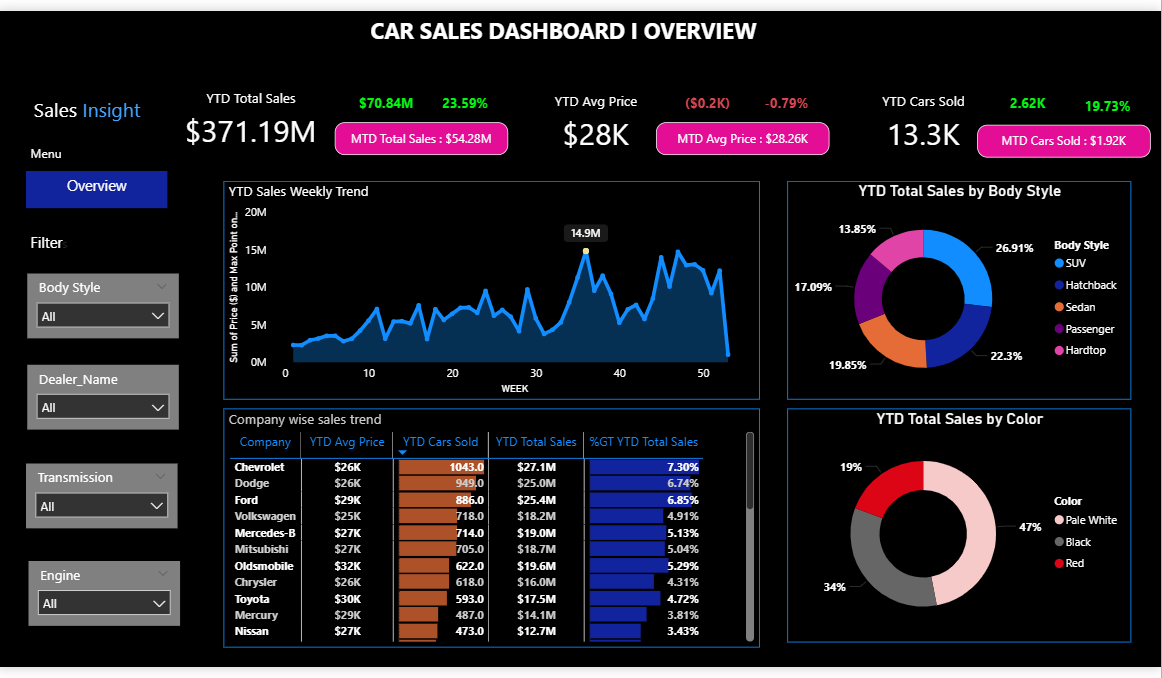

The page's visual inventory and layout, read from the dashboard file:
{"tool":"powerbi","page":{"name":"OVERVIEW","canvas":[1280,720],"ordinal":0},"visuals":[{"type":"card","title":"YTD Total Sales","fields":{"Values":["car_data.YTD Total Sales"]},"box":[199,85.1,161.9,72.7],"z":0},{"type":"card","fields":{"Values":["car_data.Sales Difference"]},"box":[371.9,85.1,113.9,37],"z":1000},{"type":"card","fields":{"Values":["car_data.YOY Sales Growth"]},"box":[467.9,85.1,94.7,37],"z":2000},{"type":"card","fields":{"Values":["car_data.MTD KPI"]},"box":[371.9,122.1,190.7,35.7],"z":3000},{"type":"card","title":"YTD Avg Price","fields":{"Values":["car_data.YTD Avg Price"]},"box":[592.8,87.8,131.7,72.7],"z":4000},{"type":"card","fields":{"Values":["car_data.Avg Price Difference"]},"box":[724.5,85.1,113.9,37],"z":5000},{"type":"card","fields":{"Values":["car_data.YOY Avg Price Growth"]},"box":[820.6,85.1,94.7,37],"z":6000},{"type":"card","fields":{"Values":["car_data.MTD Avg Price KPI"]},"box":[724.5,122.1,190.7,35.7],"z":7000},{"type":"card","title":"YTD Cars Sold","fields":{"Values":["car_data.YTD Cars Sold"]},"box":[950.9,87.8,134.5,72.7],"z":8000},{"type":"card","fields":{"Values":["car_data.Cars Sold Difference"]},"box":[1075.8,85.1,113.9,37],"z":9000},{"type":"card","fields":{"Values":["car_data.YOY growth cars sold"]},"box":[1173.2,87.8,94.7,37],"z":10000},{"type":"card","fields":{"Values":["car_data.MTD cars sold KPI"]},"box":[1077.2,124.9,190.7,35.7],"z":11000},{"type":"areaChart","title":"YTD Sales Weekly Trend","fields":{"Category":["calendar table.WEEK"],"Y":["Sum(car_data.Price ($))","car_data.Max Point on Area Chart"]},"box":[249.7,186.6,588.7,240.1],"z":12000},{"type":"donutChart","fields":{"Category":["car_data.Body Style"],"Y":["car_data.YTD Total Sales"]},"box":[868.6,186.6,377.4,240.1],"z":13000},{"type":"donutChart","fields":{"Category":["car_data.Color"],"Y":["car_data.YTD Total Sales"]},"box":[868.6,436.4,377.4,256.6],"z":14000},{"type":"tableEx","title":"Company wise sales trend","fields":{"Values":["car_data.Company","car_data.YTD Avg Price","car_data.YTD Cars Sold","car_data.YTD Total Sales1","car_data.YTD Total Sales"]},"box":[249.7,436.4,588.7,262.1],"z":15000},{"type":"textbox","box":[406.2,0,544.8,53.5],"z":16000},{"type":"slicer","fields":{"Values":["car_data.Body Style"]},"box":[34.3,288.2,166,71.4],"z":17000},{"type":"slicer","fields":{"Values":["car_data.Dealer_Name"]},"box":[34.3,388.3,166,71.4],"z":18000},{"type":"slicer","fields":{"Values":["car_data.Transmission"]},"box":[32.9,496.7,166,71.4],"z":19000},{"type":"slicer","fields":{"Values":["car_data.Engine"]},"box":[35.7,603.8,166,71.4],"z":20000},{"type":"textbox","box":[12.3,87.8,175.6,52.1],"z":22000},{"type":"textbox","box":[32.9,142.7,67.2,43.9],"z":23000},{"type":"textbox","box":[32.9,237.4,94.7,50.8],"z":24000},{"type":"textbox","box":[32.9,175.6,155.1,41.2],"z":24001}]}

Visuals, with their boxes on the page's 1280x720 design canvas (x1, y1, x2, y2). These are canvas units, not pixel positions in the 1162x678 screenshot, which may show the page scaled, cropped or inside an application window:
"YTD Total Sales" card: pyautogui.locateOnScreen(199, 85, 361, 158)
card - car_data.Sales Difference: pyautogui.locateOnScreen(372, 85, 486, 122)
card - car_data.YOY Sales Growth: pyautogui.locateOnScreen(468, 85, 563, 122)
card - car_data.MTD KPI: pyautogui.locateOnScreen(372, 122, 563, 158)
"YTD Avg Price" card: pyautogui.locateOnScreen(593, 88, 724, 160)
card - car_data.Avg Price Difference: pyautogui.locateOnScreen(724, 85, 838, 122)
card - car_data.YOY Avg Price Growth: pyautogui.locateOnScreen(821, 85, 915, 122)
card - car_data.MTD Avg Price KPI: pyautogui.locateOnScreen(724, 122, 915, 158)
"YTD Cars Sold" card: pyautogui.locateOnScreen(951, 88, 1085, 160)
card - car_data.Cars Sold Difference: pyautogui.locateOnScreen(1076, 85, 1190, 122)
card - car_data.YOY growth cars sold: pyautogui.locateOnScreen(1173, 88, 1268, 125)
card - car_data.MTD cars sold KPI: pyautogui.locateOnScreen(1077, 125, 1268, 161)
"YTD Sales Weekly Trend" areaChart: pyautogui.locateOnScreen(250, 187, 838, 427)
donutChart - car_data.Body Style x car_data.YTD Total Sales: pyautogui.locateOnScreen(869, 187, 1246, 427)
donutChart - car_data.Color x car_data.YTD Total Sales: pyautogui.locateOnScreen(869, 436, 1246, 693)
"Company wise sales trend" tableEx: pyautogui.locateOnScreen(250, 436, 838, 698)
textbox: pyautogui.locateOnScreen(406, 0, 951, 54)
slicer - car_data.Body Style: pyautogui.locateOnScreen(34, 288, 200, 360)
slicer - car_data.Dealer_Name: pyautogui.locateOnScreen(34, 388, 200, 460)
slicer - car_data.Transmission: pyautogui.locateOnScreen(33, 497, 199, 568)
slicer - car_data.Engine: pyautogui.locateOnScreen(36, 604, 202, 675)
textbox: pyautogui.locateOnScreen(12, 88, 188, 140)
textbox: pyautogui.locateOnScreen(33, 143, 100, 187)
textbox: pyautogui.locateOnScreen(33, 237, 128, 288)
textbox: pyautogui.locateOnScreen(33, 176, 188, 217)
